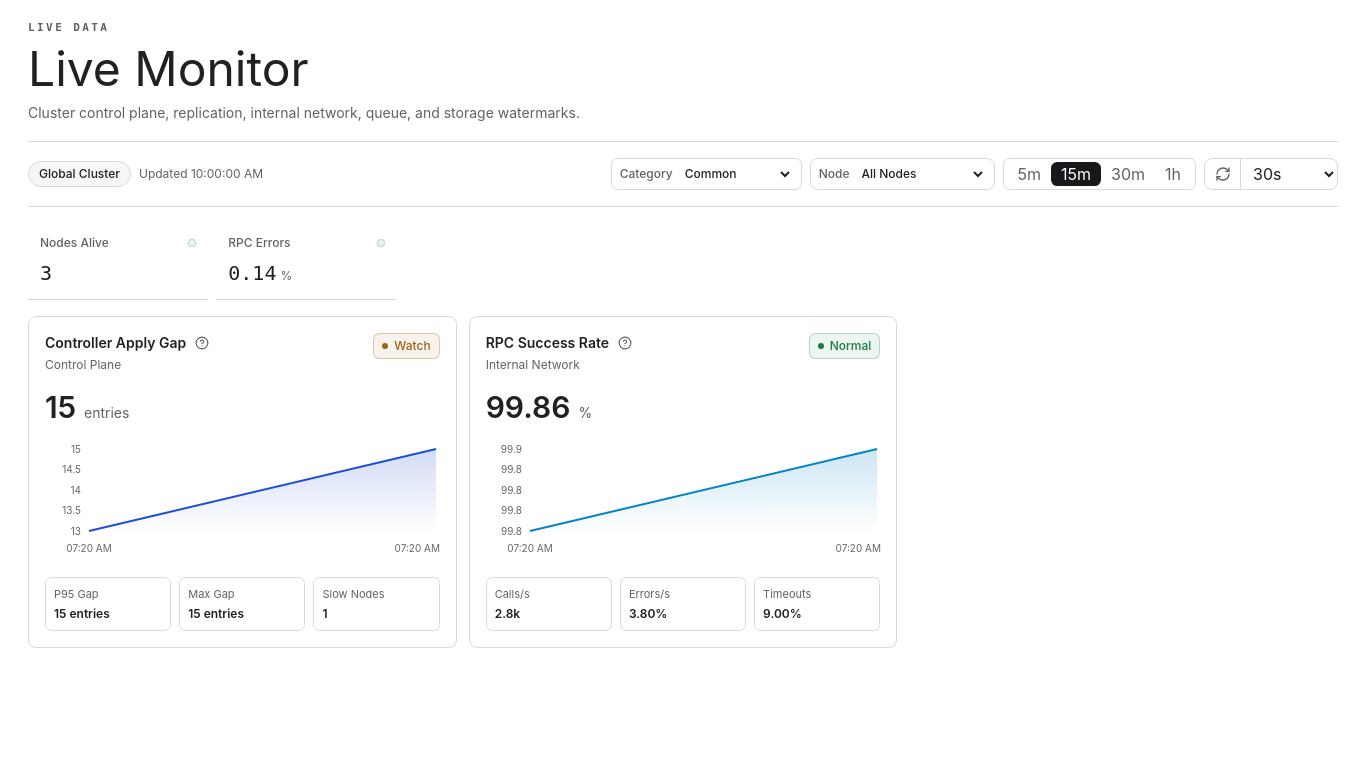
it: renders owned goroutines by node and module and refreshes that category every five seconds
Select "Goroutines" in the dropdown labelled "Category" at (737, 174), box x1=681 y1=162 x2=793 y2=186
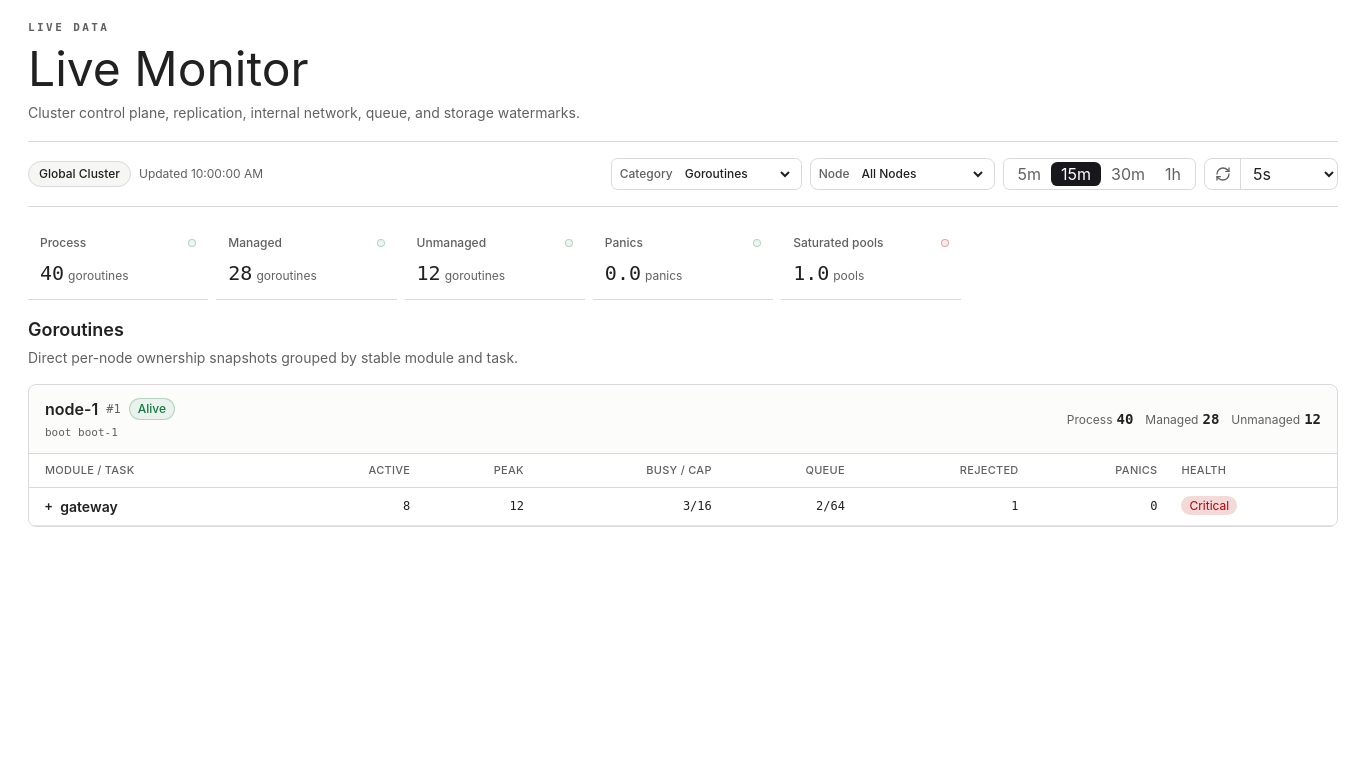
Expected: the heading "Goroutines" is shown, x1=28 y1=318 x2=124 y2=340
Expected: the heading "node-1" is shown, x1=45 y1=396 x2=98 y2=420
Expected: the button "+ gateway" is shown
Click the button with aria-label "Show tasks for gateway" at (81, 506), box x1=45 y1=496 x2=118 y2=516
Wait 5000 ms
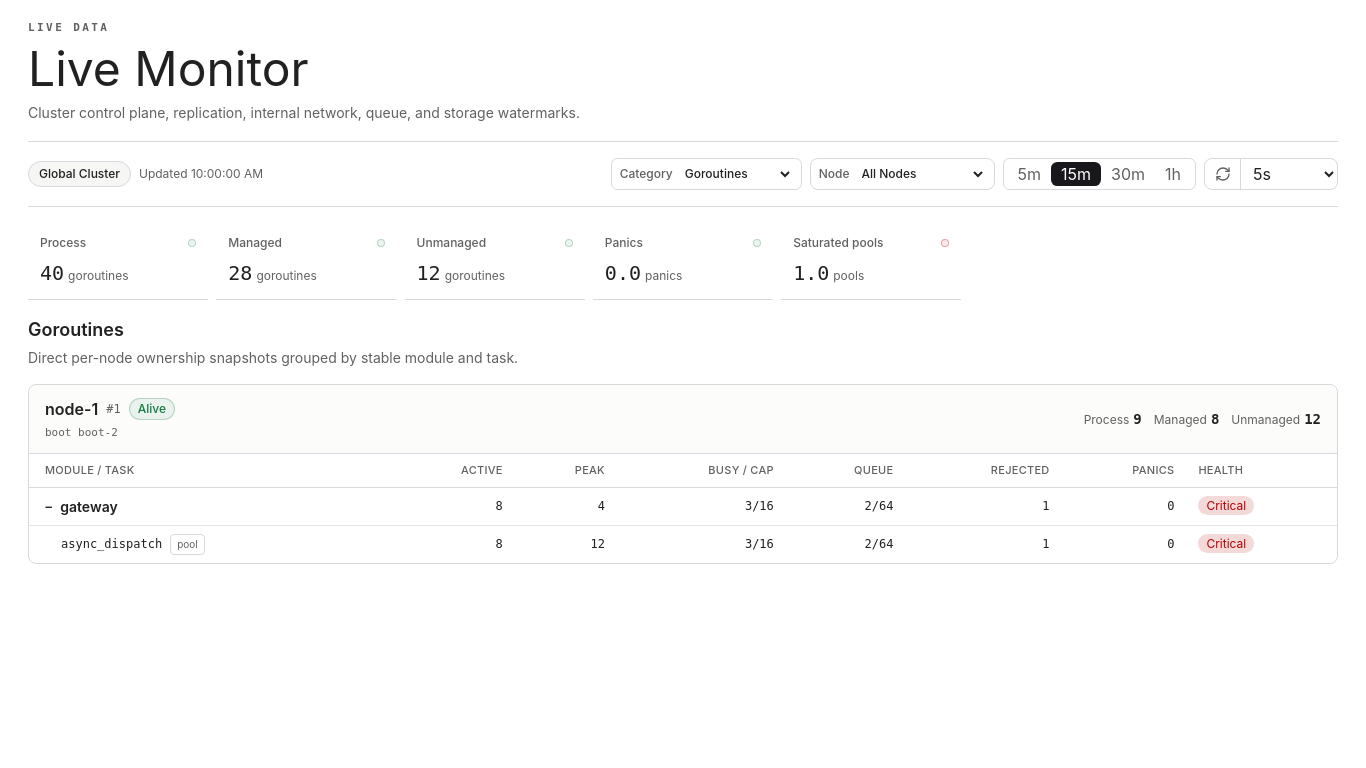
Expected: the text "async_dispatch" is shown, x1=61 y1=536 x2=162 y2=552
Expected: the text "Critical" is shown 2 times, x1=1198 y1=496 x2=1254 y2=515; x1=1198 y1=534 x2=1254 y2=553
Expected: the text "2/64" is shown 2 times, x1=786 y1=487 x2=905 y2=525; x1=786 y1=525 x2=905 y2=562
Select "node-1 (1) · local" in the dropdown labelled "Node" at (922, 174), box x1=858 y1=162 x2=986 y2=186
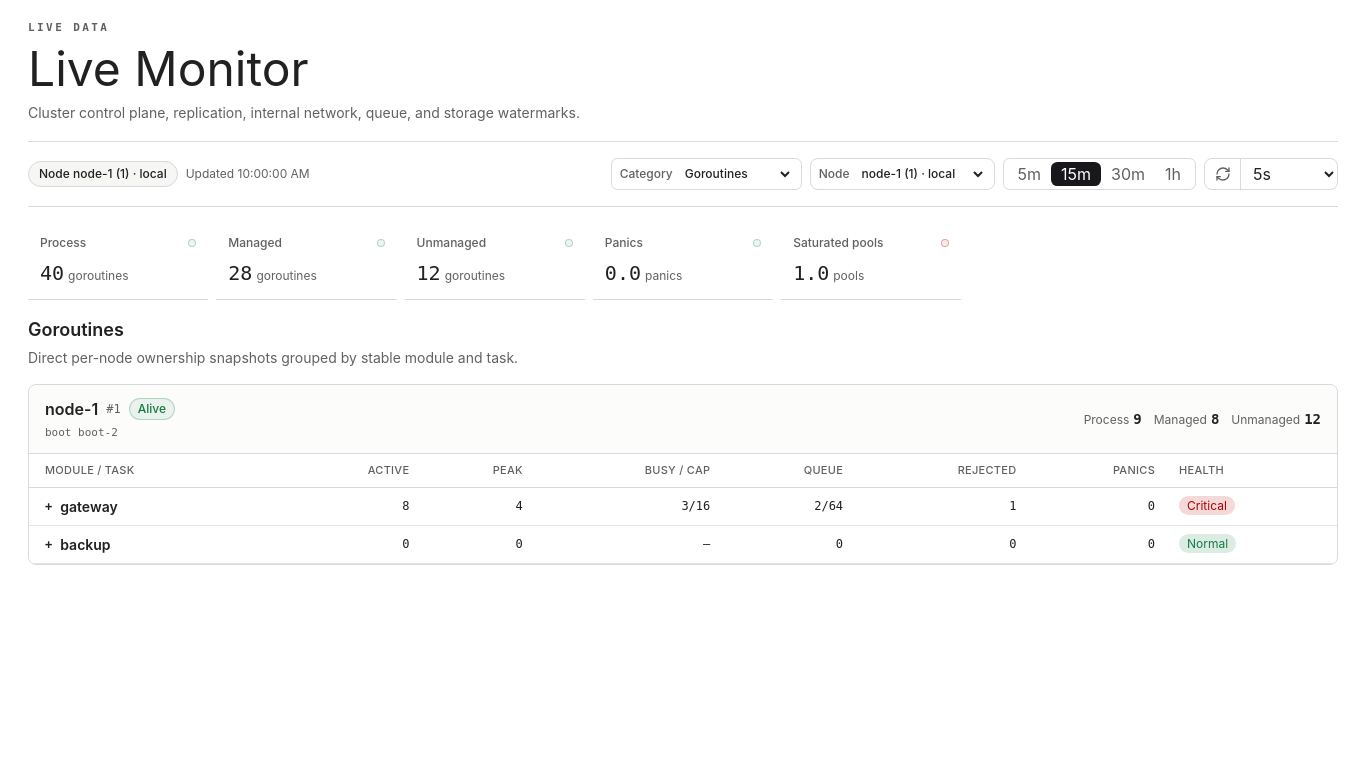
Expected: the button "+ backup" is shown, x1=45 y1=534 x2=111 y2=554
